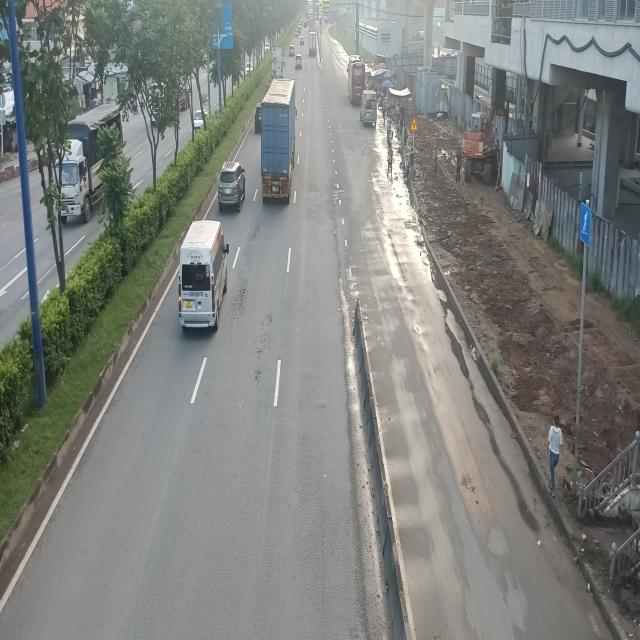car: (216, 162, 246, 212)
coach: (349, 59, 367, 105)
container: (260, 78, 296, 205)
van: (180, 220, 232, 332), (360, 90, 376, 125)
